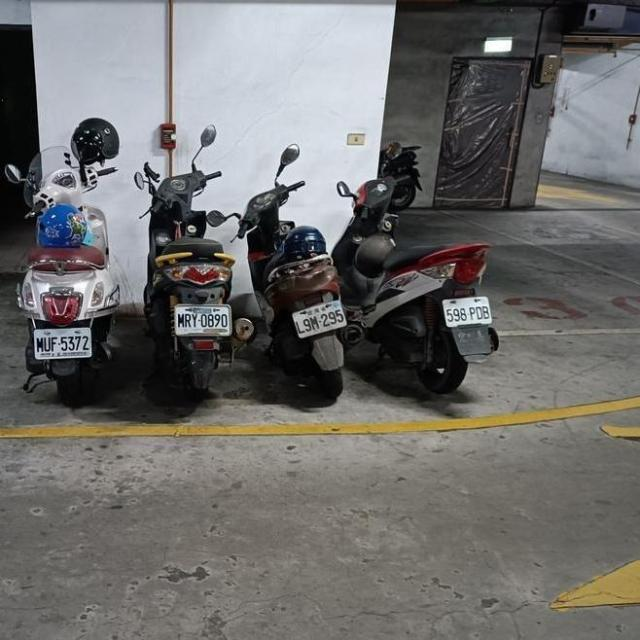W: (287, 291, 347, 339), (171, 296, 233, 338), (438, 287, 494, 331), (31, 323, 93, 361)
